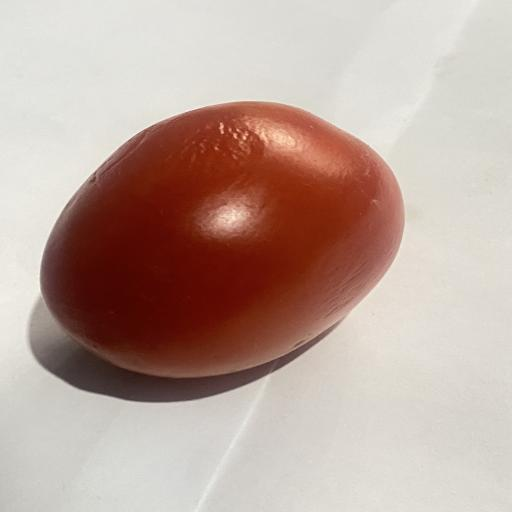overipe: (41, 102, 403, 377)
